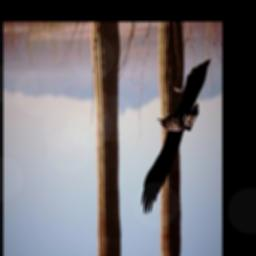Crow: (139, 55, 211, 217)
